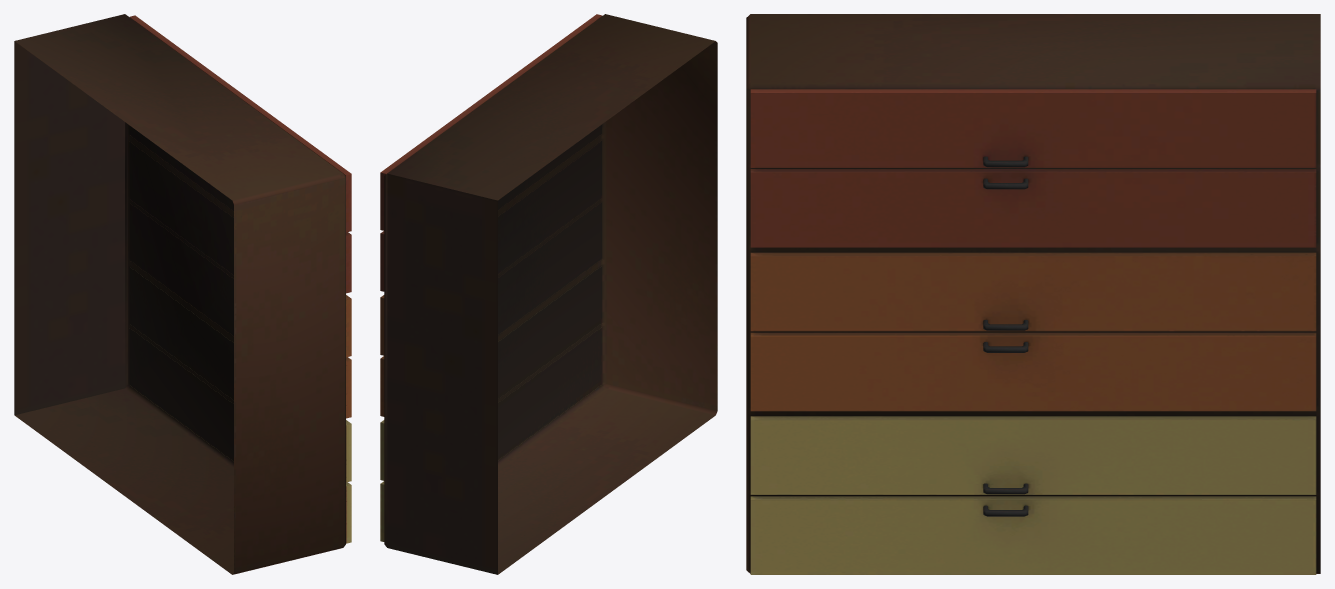
Rendered from nt_shelf_modern_LOD0.obj.
3 renders of one model, left to right at view 1: azimuth 30°, elevation 25°; view 2: azimuth 150°, elevation 25°; view 3: azimuth 270°, elevation 25°, orthographic. The views are drawn at different scales.
Parts seen in each view (by area): view 1: mtl_nt_shelf_modern; view 2: mtl_nt_shelf_modern; view 3: mtl_nt_shelf_modern.
Boxes of the visible parts, x1=… form: mtl_nt_shelf_modern: x1=14, y1=14, x2=351, y2=574; mtl_nt_shelf_modern: x1=380, y1=14, x2=717, y2=574; mtl_nt_shelf_modern: x1=746, y1=14, x2=1320, y2=574.
Bounding box in the file's own units: 57.41 × 160 × 170.
